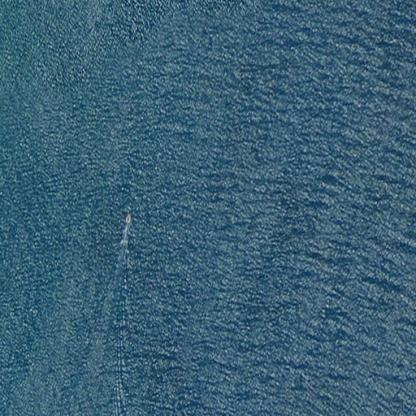ship: (123, 211, 131, 222)
